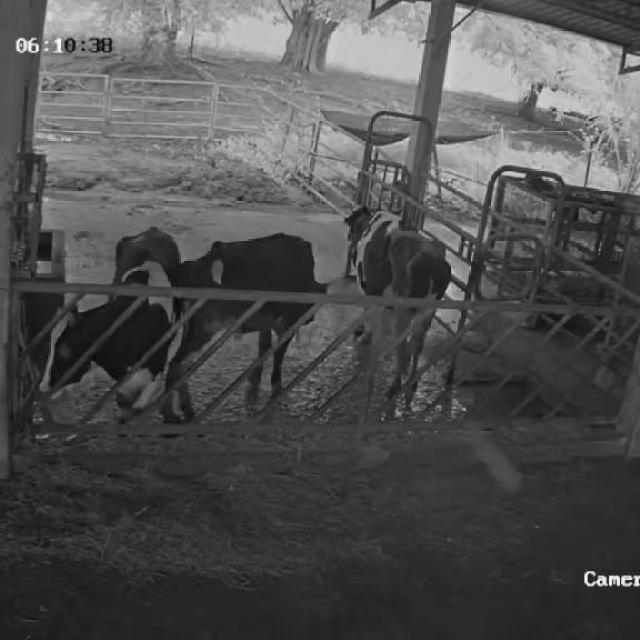standing: (29, 228, 185, 426), (167, 233, 332, 411), (344, 203, 450, 408)
